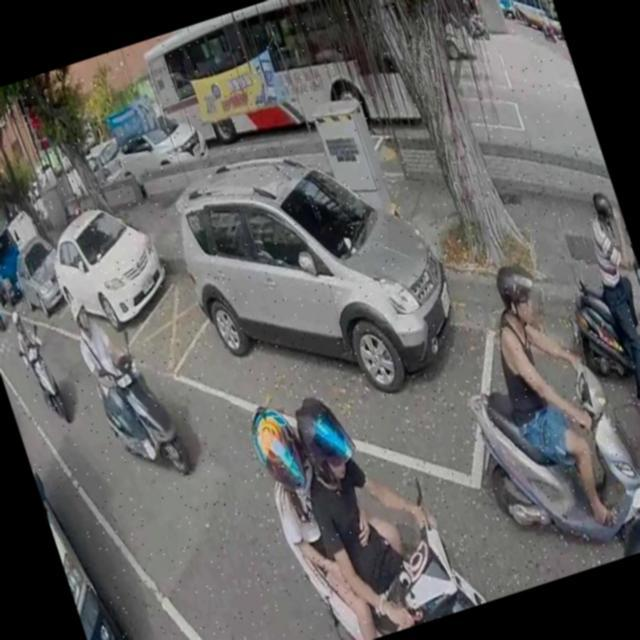person: (469, 255, 640, 554), (280, 374, 462, 640), (247, 380, 430, 640), (66, 286, 172, 474), (569, 188, 640, 432), (6, 304, 66, 414), (609, 507, 640, 559), (463, 0, 479, 27), (542, 12, 552, 28)
